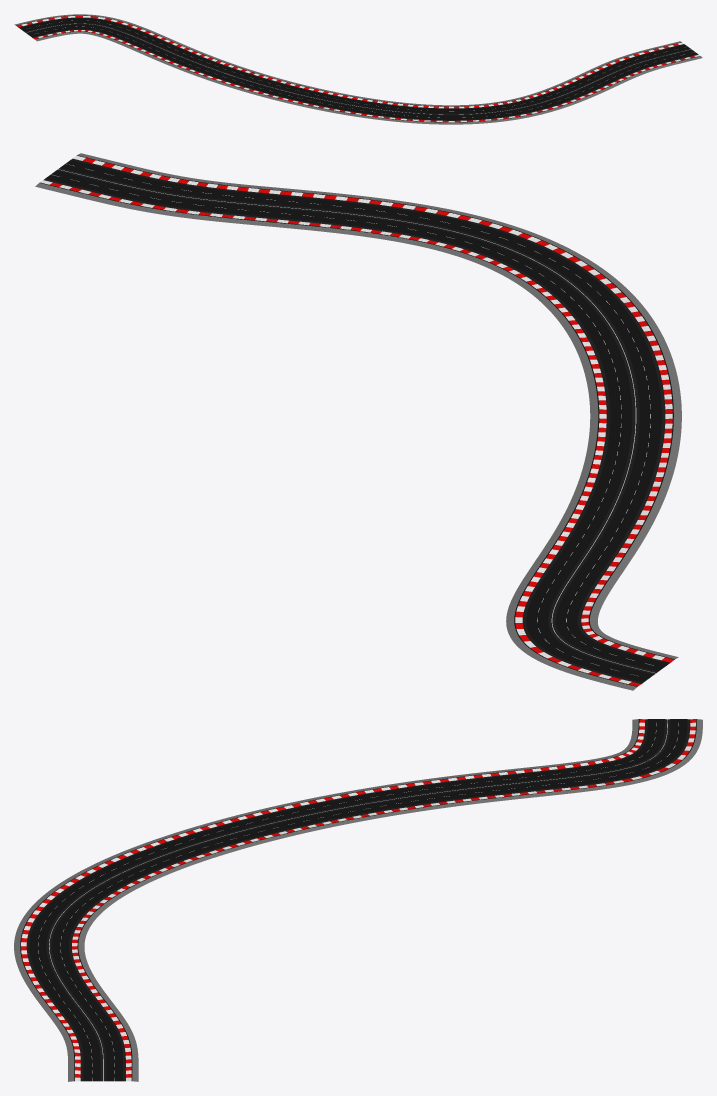
The model's file is S0.2c2-Cam.glb.
3 renders of one model, top to bottom at view 1: azimuth 30°, elevation 25°; view 2: azimuth 150°, elevation 25°; view 3: azimuth 270°, elevation 25°, orthographic. The views are drawn at different scales.
Parts seen in each view (by area): view 1: Grid; view 2: Grid; view 3: Grid.
Boxes of the visible parts, x1=… form: Grid: x1=14, y1=14, x2=702, y2=124; Grid: x1=35, y1=153, x2=681, y2=690; Grid: x1=14, y1=719, x2=702, y2=1081.
Size of the model in its own units: 304 by 0.31 by 244.
